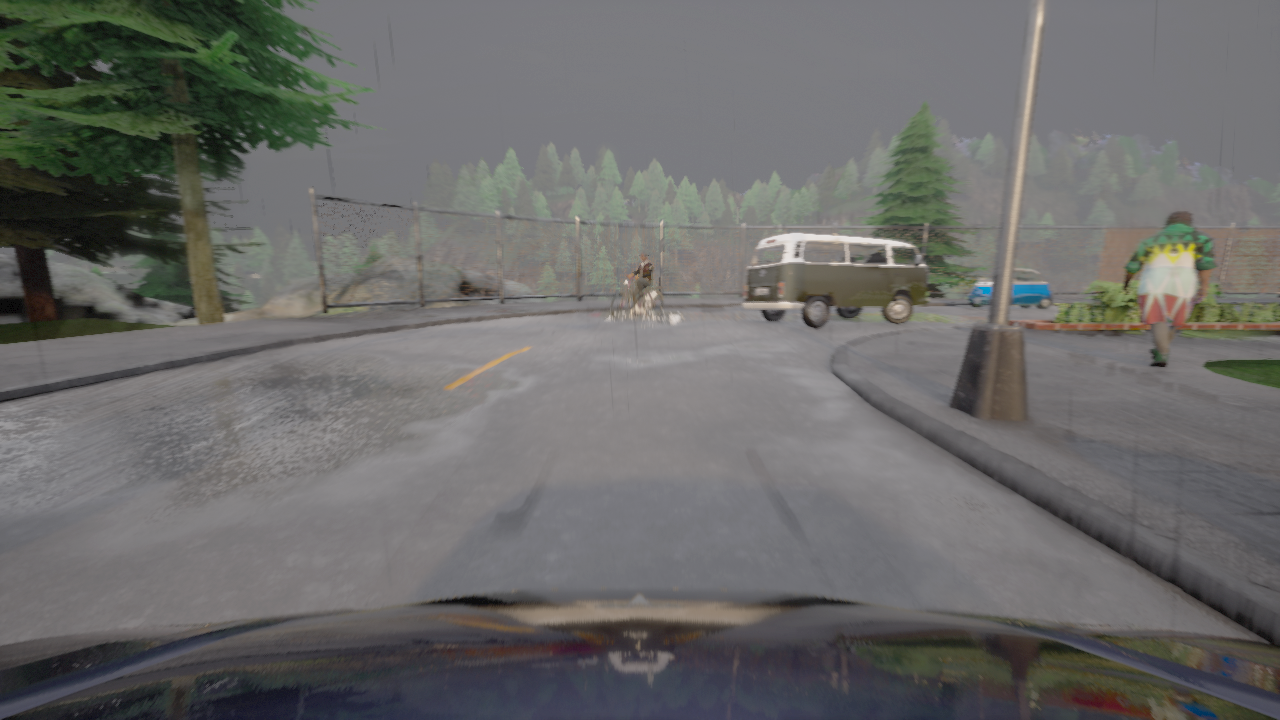cyclist: (0, 588, 1279, 719), (742, 233, 928, 328), (966, 268, 1052, 310), (611, 276, 663, 319)
pedestrian: (1122, 212, 1216, 367)
